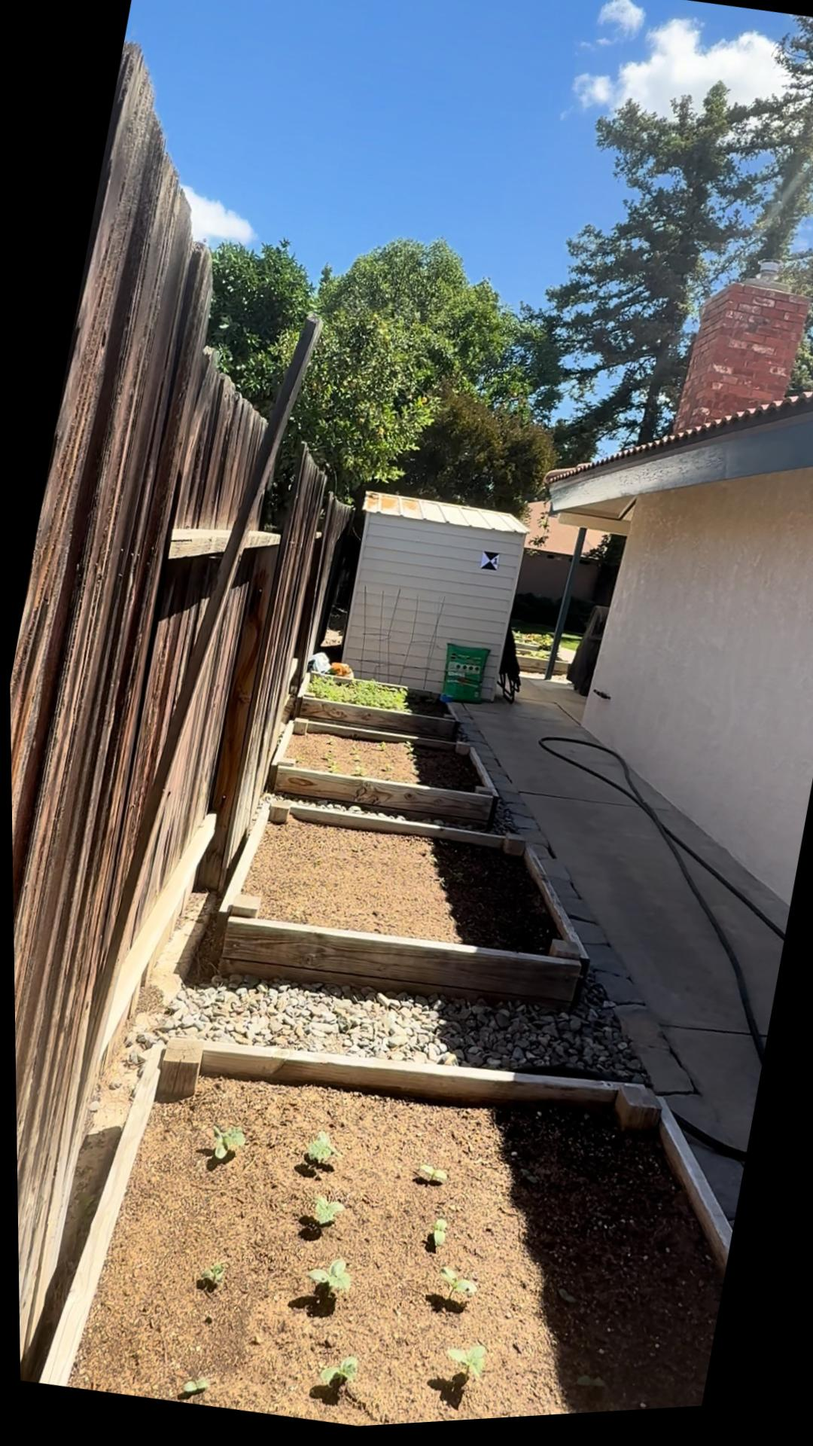target1: (478, 549, 503, 575)
